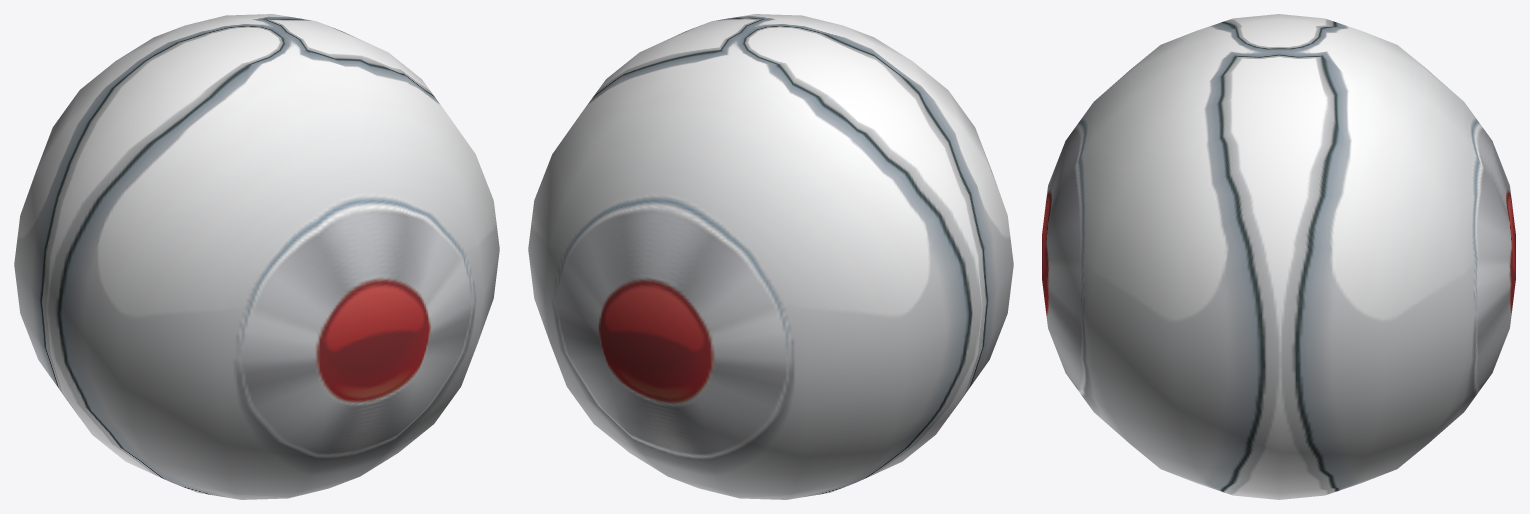
The model's file is cursor_ball.fbx.
3 renders of one model, left to right at view 1: azimuth 30°, elevation 25°; view 2: azimuth 150°, elevation 25°; view 3: azimuth 270°, elevation 25°, orthographic.
Visible parts, largest first — view 1: sphere; view 2: sphere; view 3: sphere.
Boxes of the visible parts, x1,y1,x2,y2 form: sphere: (14,14,499,499); sphere: (528,14,1013,499); sphere: (1042,14,1515,499).
Size of the model in its own units: 1 by 1 by 0.9749.
1 material, 1 textured.
